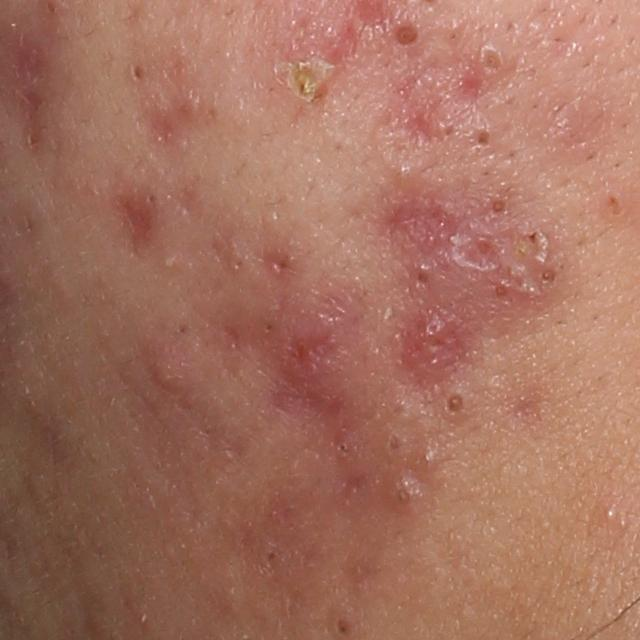atrophic_scar: (379, 57, 447, 168), (443, 65, 488, 111)
comedo: (471, 39, 508, 79), (438, 388, 469, 416), (389, 21, 421, 48), (331, 611, 357, 639), (473, 125, 497, 152), (535, 263, 560, 288), (488, 193, 511, 218), (604, 503, 625, 522), (228, 255, 246, 275), (128, 62, 145, 83), (263, 549, 278, 565)
papule: (270, 311, 348, 418), (142, 346, 194, 394), (405, 310, 456, 355), (387, 472, 426, 509), (413, 440, 443, 471)
